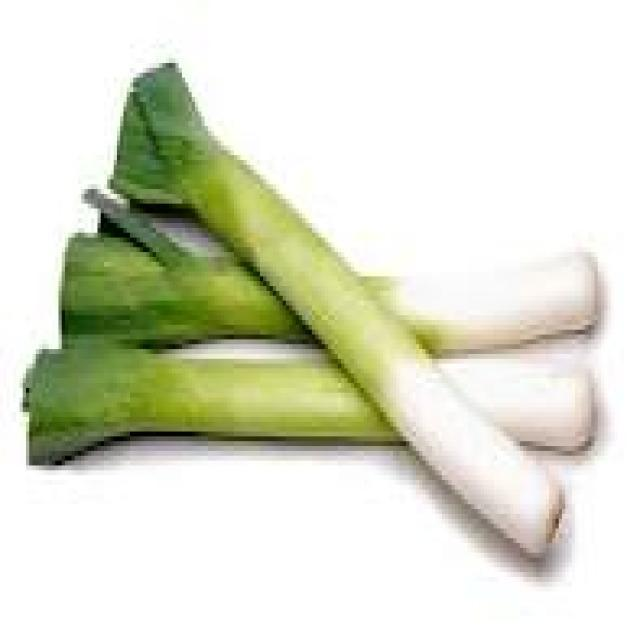Green Onions: (26, 54, 604, 596)
